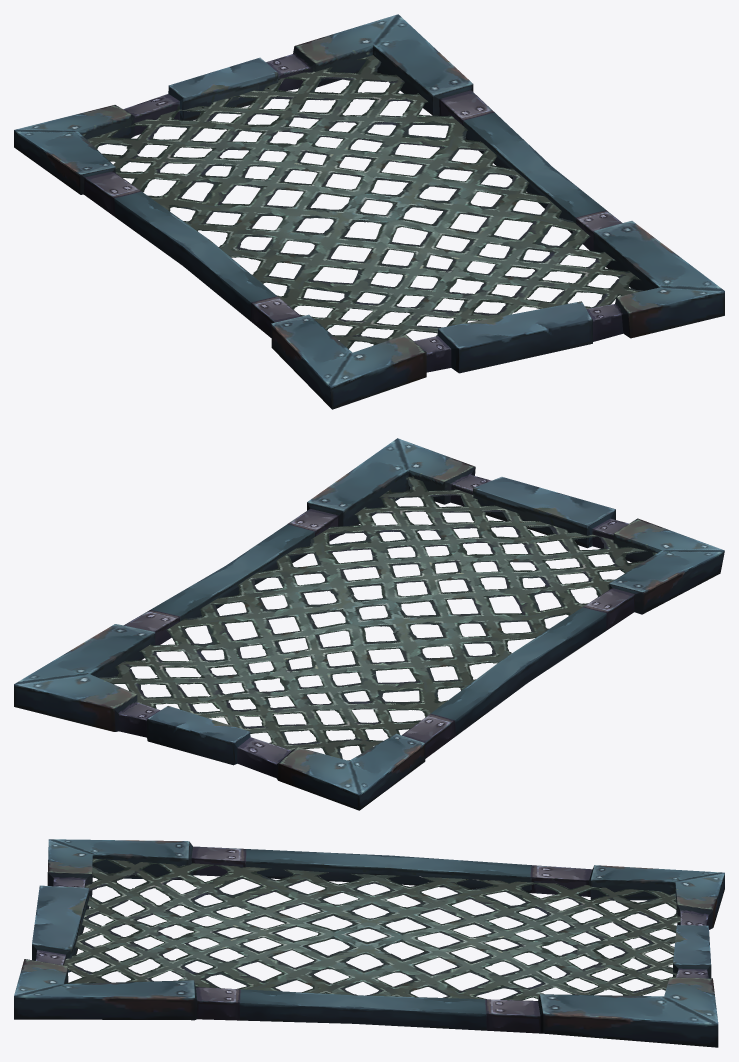
Rendered from mesh_Pt_sewb_props_19.FBX.
3 views of the same model, one above another, from view 1: azimuth 30°, elevation 25°; view 2: azimuth 150°, elevation 25°; view 3: azimuth 270°, elevation 25° (orthographic). The views are drawn at different scales.
Parts seen in each view (by area): view 1: polySurface85; view 2: polySurface85; view 3: polySurface85.
Part boxes in pixels (x1,y1,x2,y2): polySurface85: (14,14,724,409); polySurface85: (14,438,724,810); polySurface85: (14,839,724,1047).
Bounding box in the file's own units: 0.1005 × 0.0114 × 0.1551.
